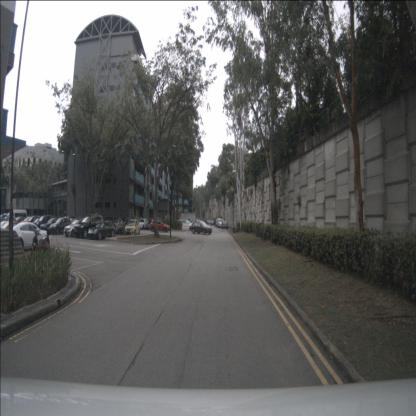vehicle-car: (6, 222, 50, 252), (74, 214, 105, 239), (88, 222, 116, 240), (64, 219, 90, 238), (49, 217, 75, 235), (40, 217, 65, 234), (34, 214, 58, 231), (5, 209, 28, 226), (108, 218, 129, 235), (191, 220, 212, 235), (150, 219, 171, 233), (124, 219, 140, 236), (175, 219, 194, 231), (137, 219, 148, 229), (221, 220, 228, 230), (217, 219, 224, 228)
vehicle-motorcycle: (31, 227, 52, 257)
